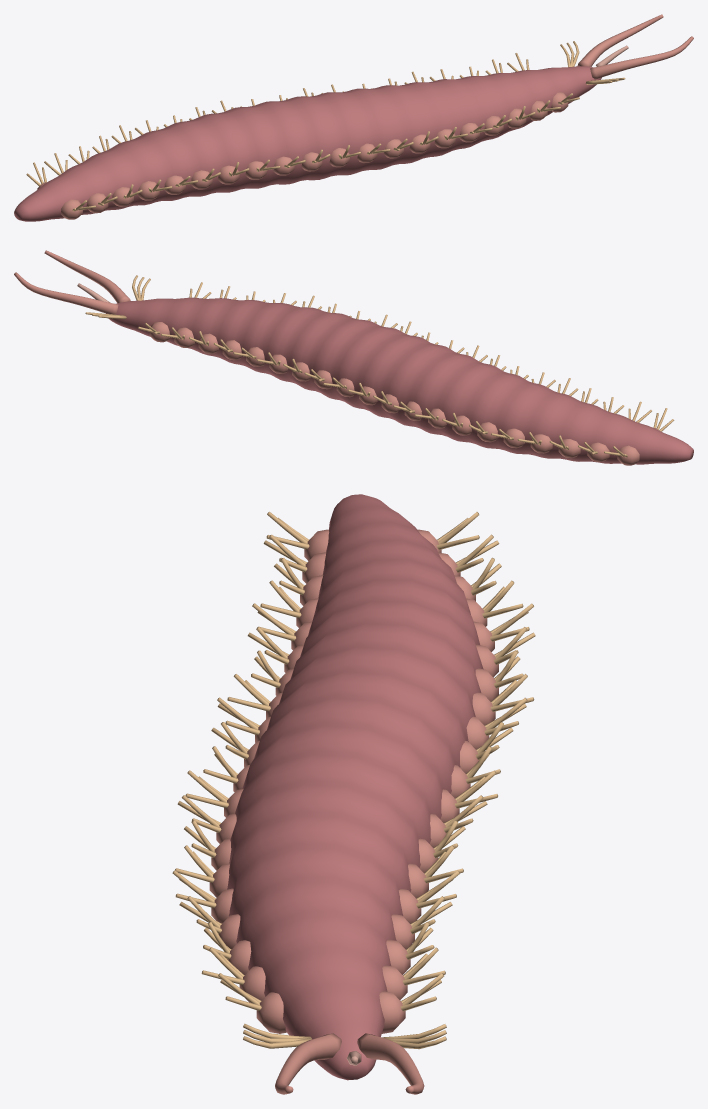
The model's file is kootenayscolex.glb.
3 renders of one model, top to bottom at view 1: azimuth 30°, elevation 25°; view 2: azimuth 150°, elevation 25°; view 3: azimuth 270°, elevation 25°, orthographic. The views are drawn at different scales.
Visible parts, largest first — view 1: continuous-soft-segmented-trunk, fleshy-parapodia-including-head, economical-chaetal-fans, head-and-long-paired-sensory-palps; view 2: continuous-soft-segmented-trunk, fleshy-parapodia-including-head, economical-chaetal-fans, head-and-long-paired-sensory-palps; view 3: continuous-soft-segmented-trunk, economical-chaetal-fans, fleshy-parapodia-including-head, head-and-long-paired-sensory-palps.
Part boxes in pixels (x1,y1,x2,y2): continuous-soft-segmented-trunk: (14,66,601,221); fleshy-parapodia-including-head: (37,92,568,219); economical-chaetal-fans: (26,53,579,211); head-and-long-paired-sensory-palps: (560,14,693,84); continuous-soft-segmented-trunk: (106,297,693,464); fleshy-parapodia-including-head: (149,322,659,465); economical-chaetal-fans: (138,282,674,457); head-and-long-paired-sensory-palps: (14,250,150,319); continuous-soft-segmented-trunk: (227,494,483,1080); economical-chaetal-fans: (172,511,535,1011); fleshy-parapodia-including-head: (209,529,498,1033); head-and-long-paired-sensory-palps: (243,1023,446,1094).
Size of the model in its own units: 0.0512 by 0.0053 by 0.0122.
